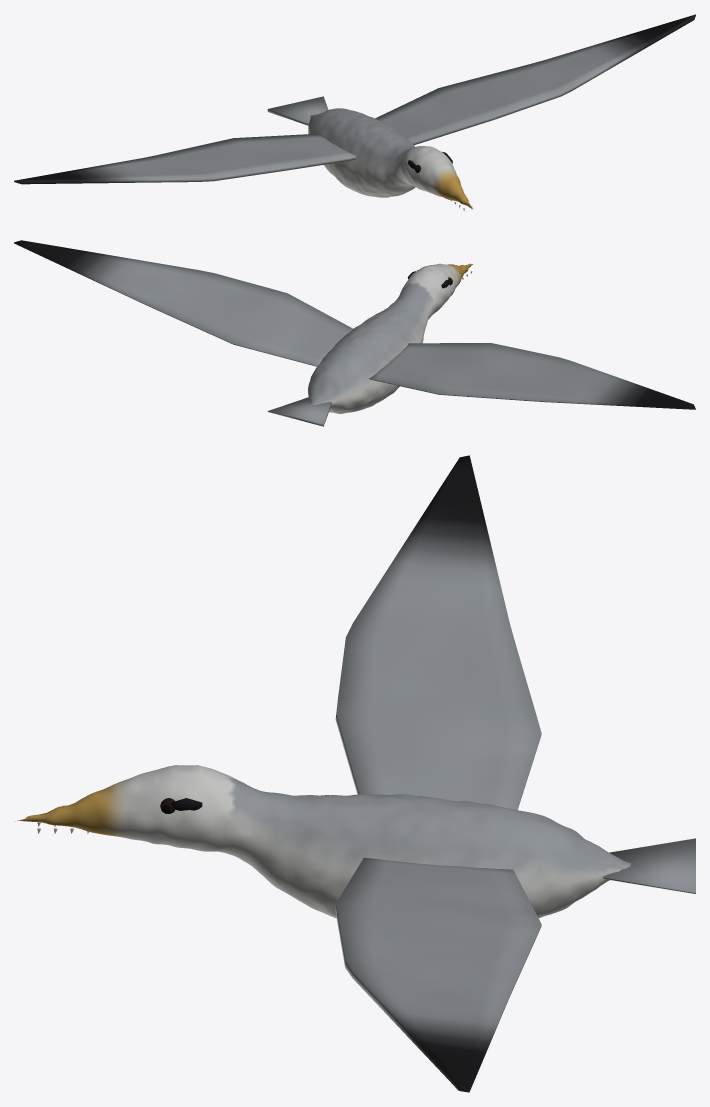
File: Ichthyornis.fbx
The picture shows the model from 3 angles, top to bottom: view 1: azimuth 30°, elevation 25°; view 2: azimuth 150°, elevation 25°; view 3: azimuth 270°, elevation 25°; orthographic projection. The views are drawn at different scales.
Parts seen in each view (by area): view 1: Ichthyornis; view 2: Ichthyornis; view 3: Ichthyornis.
Boxes of the visible parts, x1,y1,x2,y2 form: Ichthyornis: (14,14,695,211); Ichthyornis: (14,240,695,426); Ichthyornis: (15,455,695,1092).
Size of the model in its own units: 1.46 by 0.175 by 0.6627.
